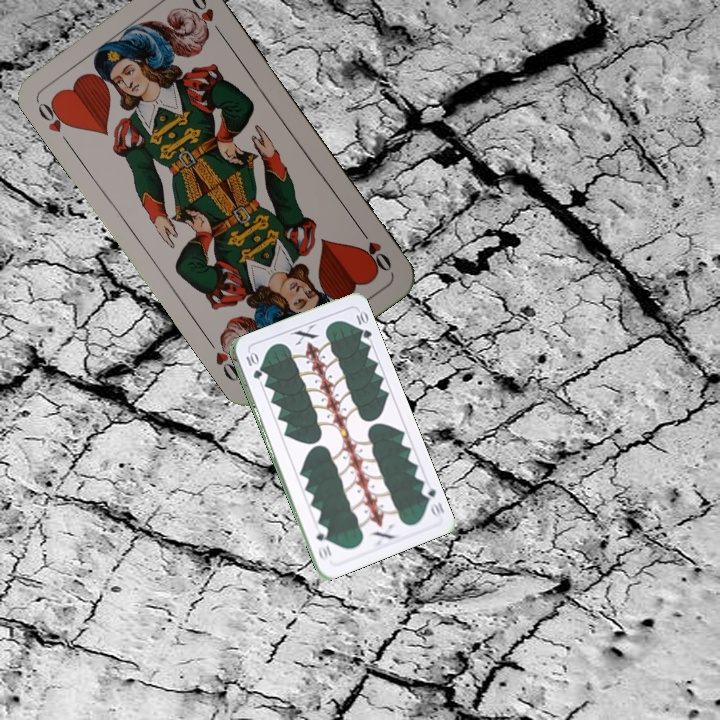G10: (417, 480, 447, 519), (242, 349, 263, 382)
HO: (33, 95, 75, 148), (355, 223, 394, 274)
